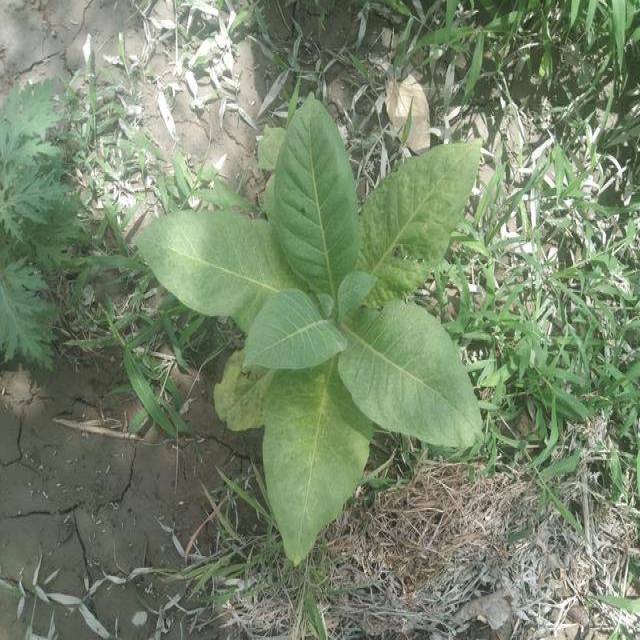crop: (130, 84, 493, 572)
